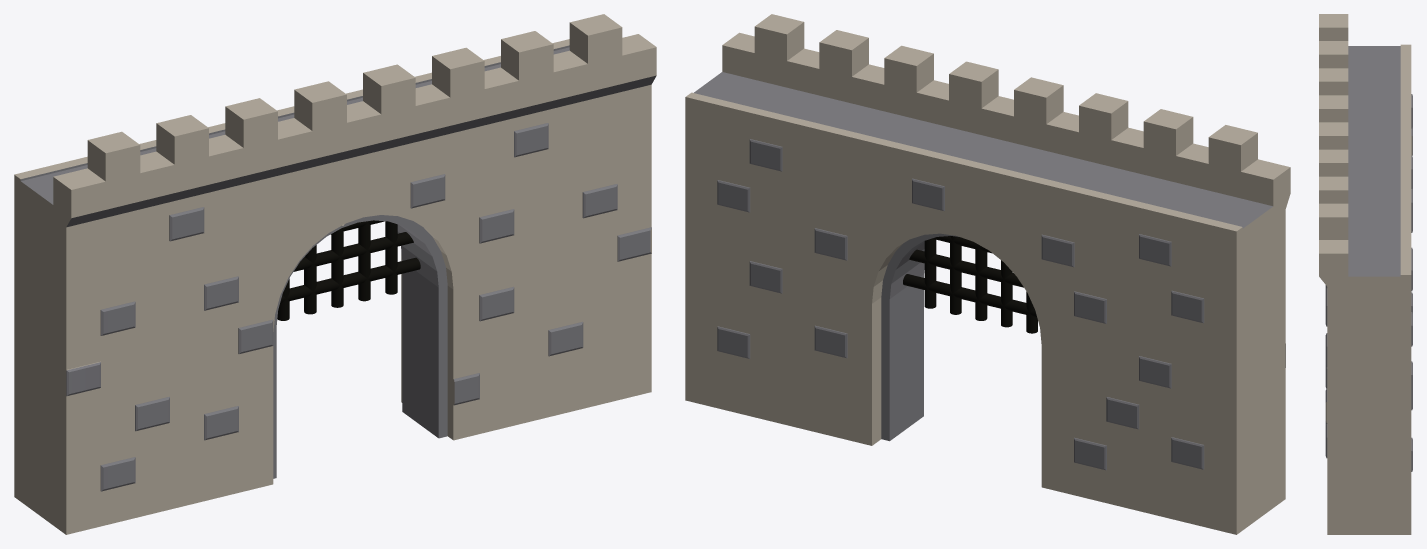
Rendered from CastleGate.fbx.
The picture shows the model from 3 angles, left to right: view 1: azimuth 30°, elevation 25°; view 2: azimuth 150°, elevation 25°; view 3: azimuth 270°, elevation 25°; orthographic projection. The views are drawn at different scales.
Parts seen in each view (by area): view 1: Cube.008, Cylinder, Cylinder.008; view 2: Cube.008, Cylinder, Cylinder.008; view 3: Cube.008.
Boxes of the visible parts, left/top/right/bottom form: Cube.008: left=14, top=14, right=656, bottom=534; Cylinder: left=273, top=215, right=447, bottom=478; Cylinder.008: left=277, top=220, right=420, bottom=320; Cube.008: left=685, top=14, right=1290, bottom=534; Cylinder: left=881, top=233, right=958, bottom=441; Cylinder.008: left=903, top=236, right=1037, bottom=333; Cube.008: left=1319, top=14, right=1412, bottom=534.
Size of the model in its own units: 650 by 400 by 112.
